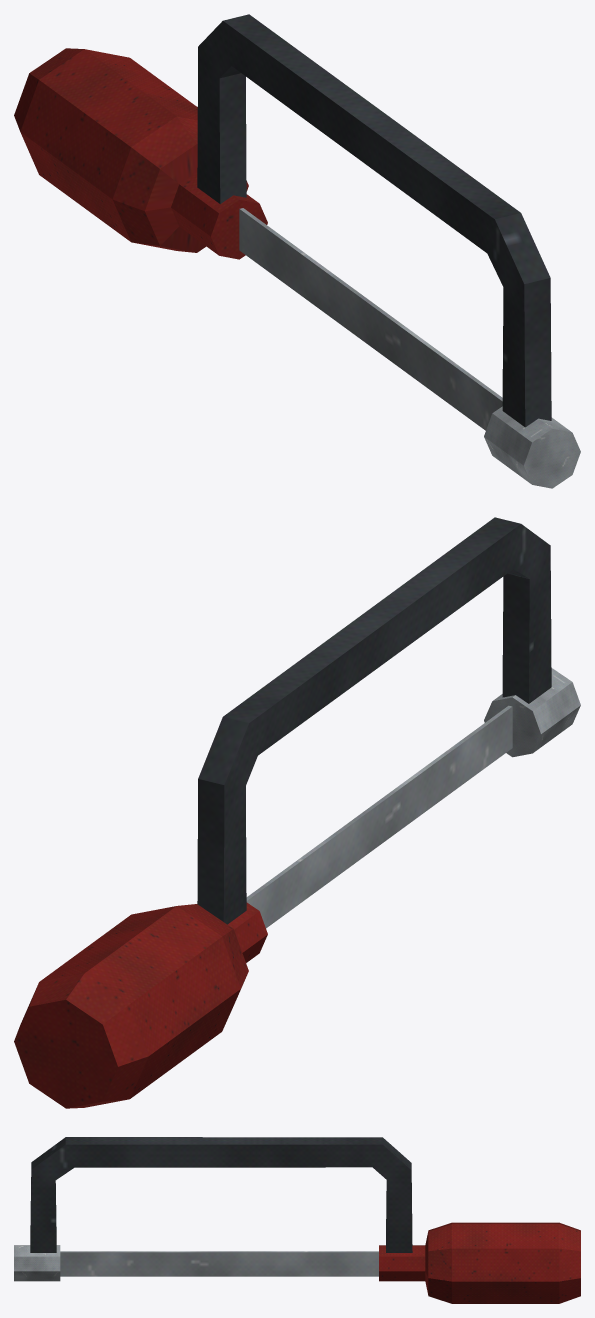
File: Hacksaw.fbx
3 views of the same model, one above another, from view 1: azimuth 30°, elevation 25°; view 2: azimuth 150°, elevation 25°; view 3: azimuth 270°, elevation 25° (orthographic). The views are drawn at different scales.
Parts seen in each view (by area): view 1: Hacksaw.001, Hacksaw.003, Hacksaw.002, Hacksaw; view 2: Hacksaw.001, Hacksaw.003, Hacksaw.002, Hacksaw; view 3: Hacksaw.001, Hacksaw.003, Hacksaw.002, Hacksaw.
Boxes of the visible parts, x1=… form: Hacksaw.001: x1=197, y1=14, x2=551, y2=427; Hacksaw.003: x1=14, y1=48, x2=267, y2=259; Hacksaw.002: x1=239, y1=208, x2=502, y2=430; Hacksaw: x1=484, y1=406, x2=580, y2=488; Hacksaw.001: x1=197, y1=517, x2=551, y2=924; Hacksaw.003: x1=14, y1=902, x2=267, y2=1108; Hacksaw.002: x1=246, y1=705, x2=512, y2=928; Hacksaw: x1=484, y1=668, x2=580, y2=757; Hacksaw.001: x1=30, y1=1137, x2=412, y2=1252; Hacksaw.003: x1=379, y1=1222, x2=580, y2=1303; Hacksaw.002: x1=60, y1=1251, x2=378, y2=1276; Hacksaw: x1=14, y1=1245, x2=60, y2=1281.
Bounding box in the file's own units: 0.0898 × 0.1852 × 0.5887.
Materials: 3 (3 with a texture image).
